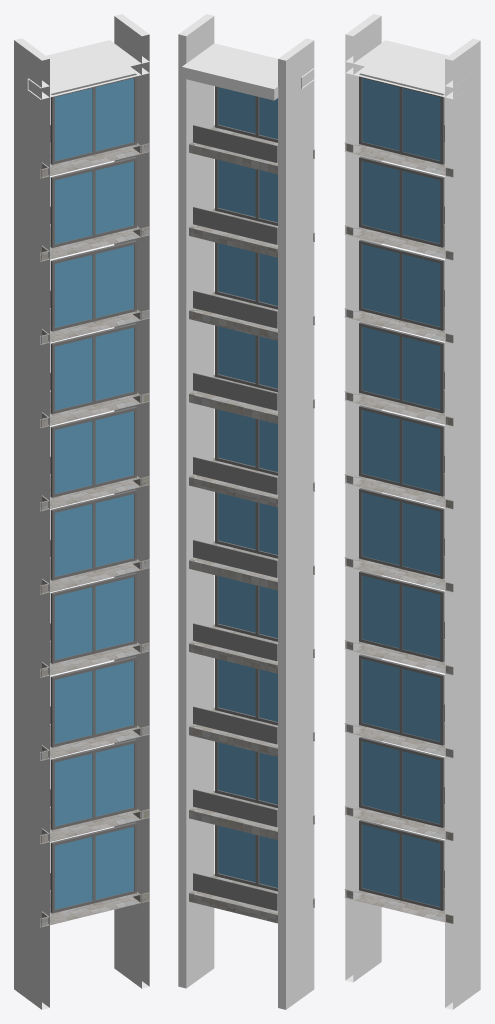
File: banCong1.glb
The picture shows the model from 3 angles, left to right: view 1: azimuth 30°, elevation 25°; view 2: azimuth 150°, elevation 25°; view 3: azimuth 330°, elevation 25°; orthographic projection.
Parts seen in each view (by area): view 1: Box001, Box019, Box185, Box190, Box189, Box183, Box182, Box181, Box187, Box184, Box186, Box188 (+21 smaller); view 2: Box001, Box019, Shape011, Box183, Box188, Box185, Box182, Box184, Box190, Box187, Box189, Box186 (+31 smaller); view 3: Box019, Box001, Box185, Box183, Box188, Box187, Box186, Box184, Box182, Box189, Box181, Box190 (+21 smaller).
Part boxes in pixels (x1,y1,x2,y2): Box001: (14, 38, 49, 1009); Box019: (114, 14, 149, 988); Box185: (55, 411, 133, 493); Box190: (55, 827, 133, 909); Box189: (55, 743, 133, 826); Box183: (55, 245, 133, 327); Box182: (55, 161, 133, 244); Box181: (55, 78, 133, 160); Box187: (55, 577, 133, 659); Box184: (55, 327, 133, 410); Box186: (55, 494, 133, 576); Box188: (55, 661, 133, 743); Box001: (278, 38, 314, 1009); Box019: (178, 14, 214, 988); Shape011: (182, 43, 314, 100); Box183: (218, 243, 277, 305); Box188: (218, 659, 277, 721); Box185: (218, 409, 277, 471); Box182: (218, 160, 277, 222); Box184: (218, 326, 277, 388); Box190: (218, 825, 277, 887); Box187: (218, 576, 277, 638); Box189: (218, 742, 277, 804); Box186: (218, 493, 277, 554); Box019: (445, 38, 480, 1009); Box001: (345, 14, 381, 982); Box185: (362, 410, 440, 492); Box183: (362, 244, 440, 326); Box188: (362, 659, 440, 741); Box187: (362, 575, 440, 658); Box186: (362, 492, 440, 575); Box184: (362, 327, 440, 409); Box182: (362, 161, 440, 243); Box189: (362, 741, 440, 823); Box181: (362, 78, 440, 160); Box190: (362, 824, 440, 906).
Size of the model in its own units: 4.12 by 34.33 by 2.11.
6 materials, 1 textured.
